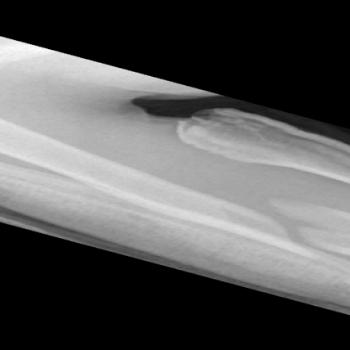Fracture: (253, 193, 313, 250)
